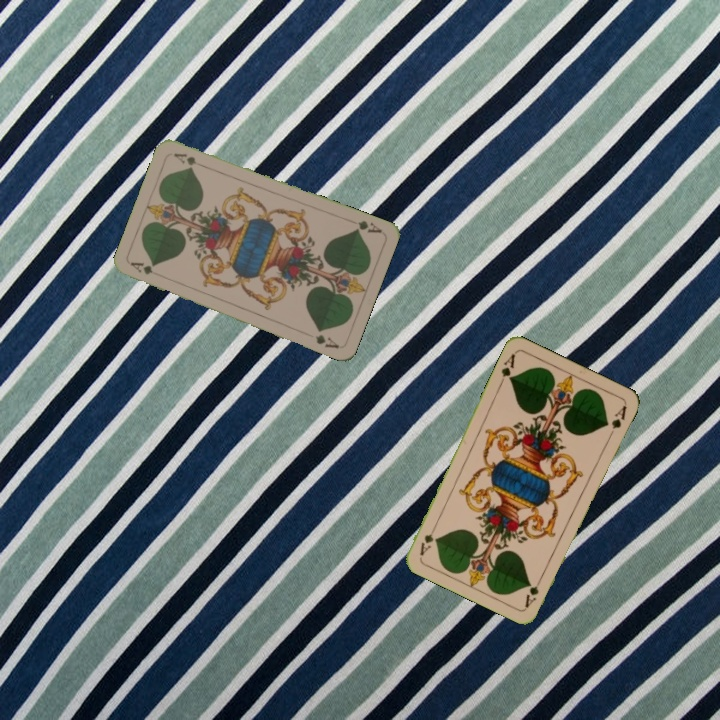GA: (521, 572, 545, 610), (495, 349, 518, 388), (127, 258, 166, 280), (345, 215, 384, 236)
